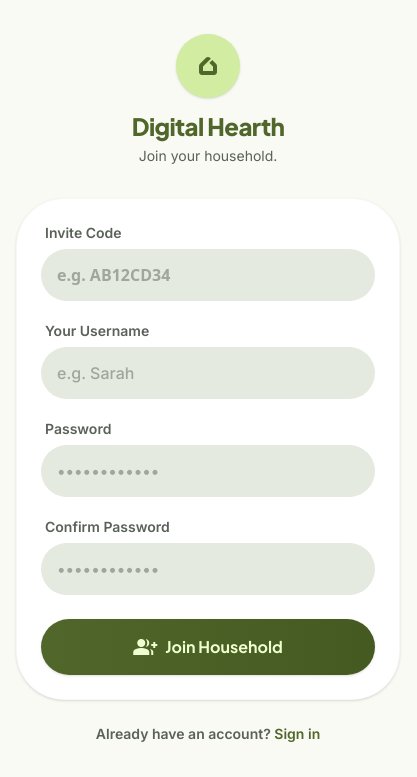
Test: JoinHousehold › shows a validation error when password is too weak
The width and height of the screenshot is (417, 777).
Type "AB12CD34" into the field labelled "Invite Code".
click(208, 275); type("AB12CD34")  # box [41,249,375,301]
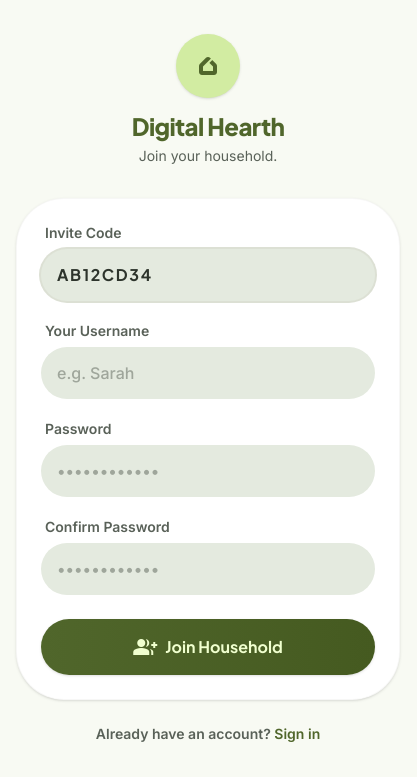
Type "Sarah" into the field labelled "Your Username".
click(208, 373); type("Sarah")  # box [41,347,375,399]
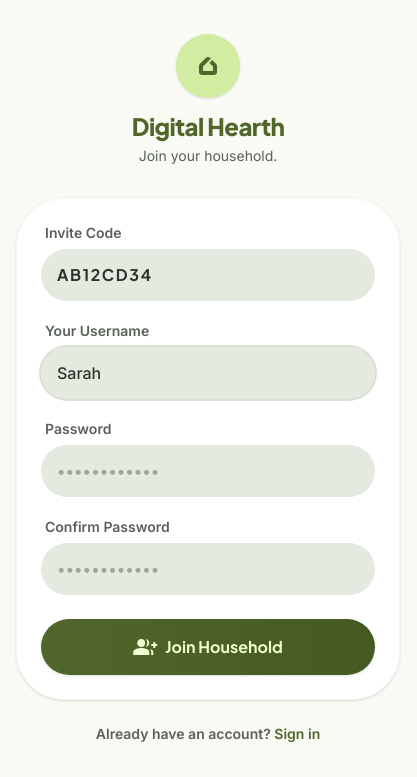
Type "weak" into the password field labelled "Password".
click(208, 471); type("weak")  # box [41,445,375,497]
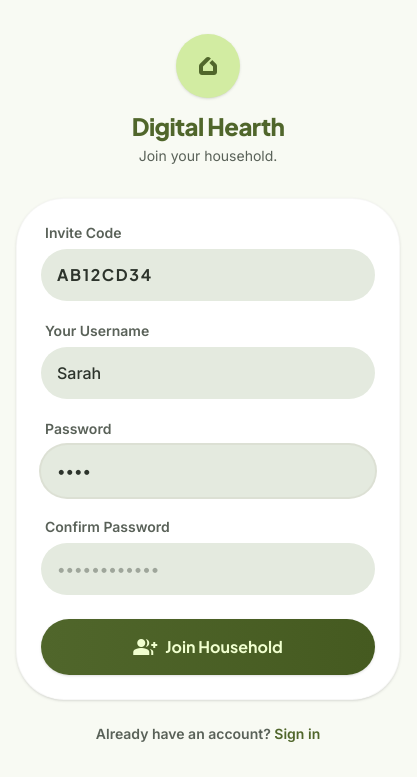
Type "weak" into the password field labelled "Confirm Password".
click(208, 569); type("weak")  # box [41,543,375,595]
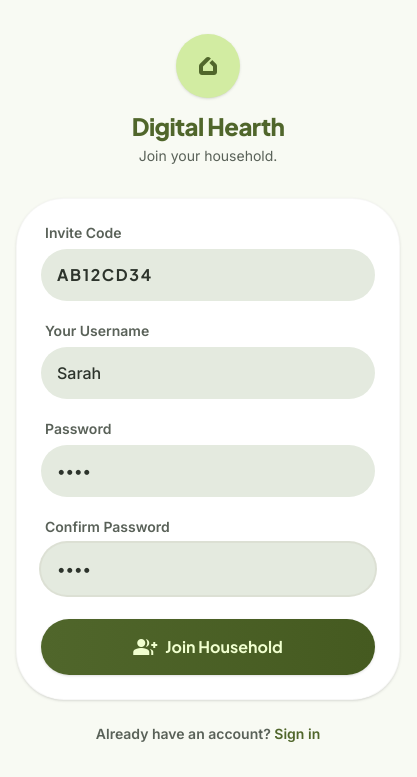
Click the button "Join Household".
click(208, 647)  # box [41,619,375,675]
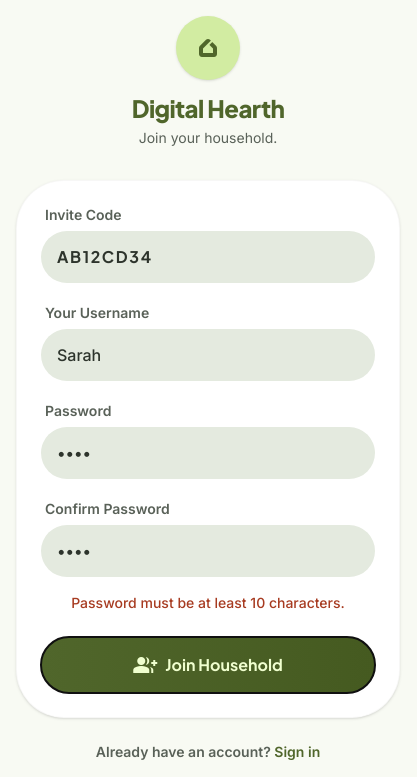
Check: the text "Password must be at least 10 characters." is shown, box [71,594,345,611]
